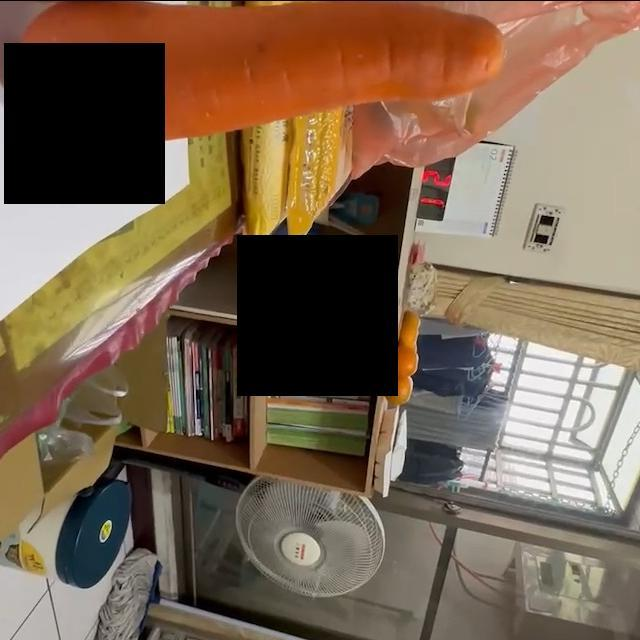carrot: (16, 1, 511, 148)
